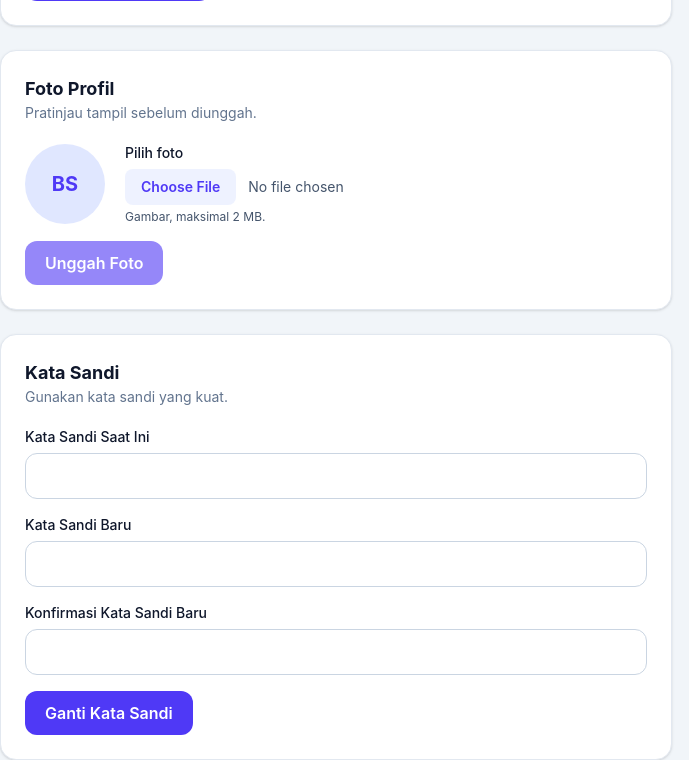
Test: ProfilePage › form kata sandi › menolak jika konfirmasi tidak sama
(page scrolled)
Type "lama123" into the password field labelled "Kata Sandi Saat Ini" at (336, 476), box top-left (25, 453), bottom-right (647, 499)
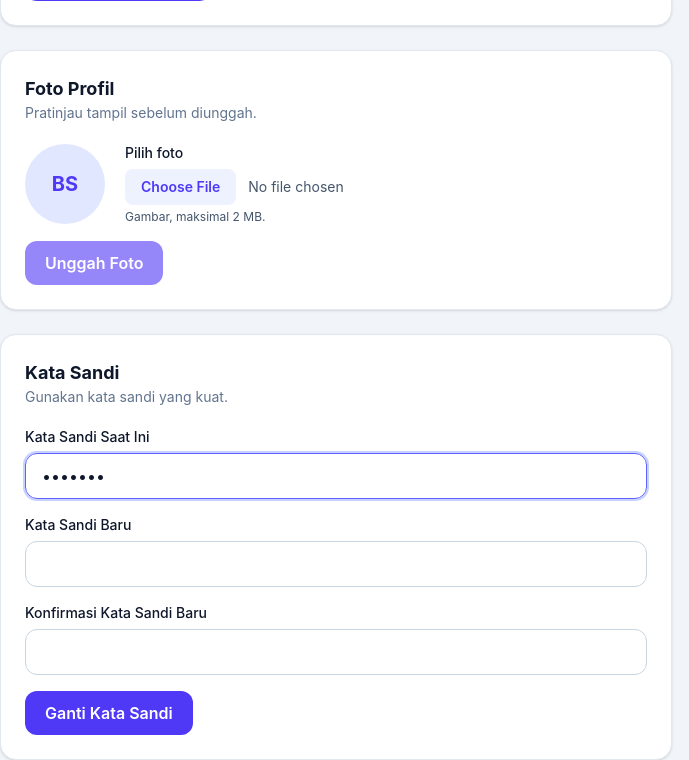
Type "baru1234" into the password field labelled "Kata Sandi Baru" at (336, 564), box top-left (25, 541), bottom-right (647, 587)
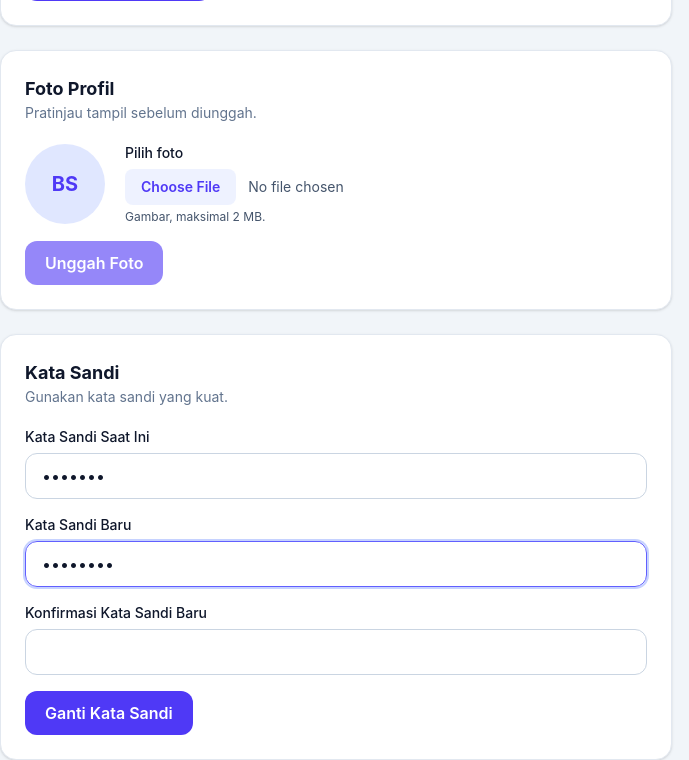
Type "beda1234" into the password field labelled "Konfirmasi Kata Sandi Baru" at (336, 652), box top-left (25, 629), bottom-right (647, 675)
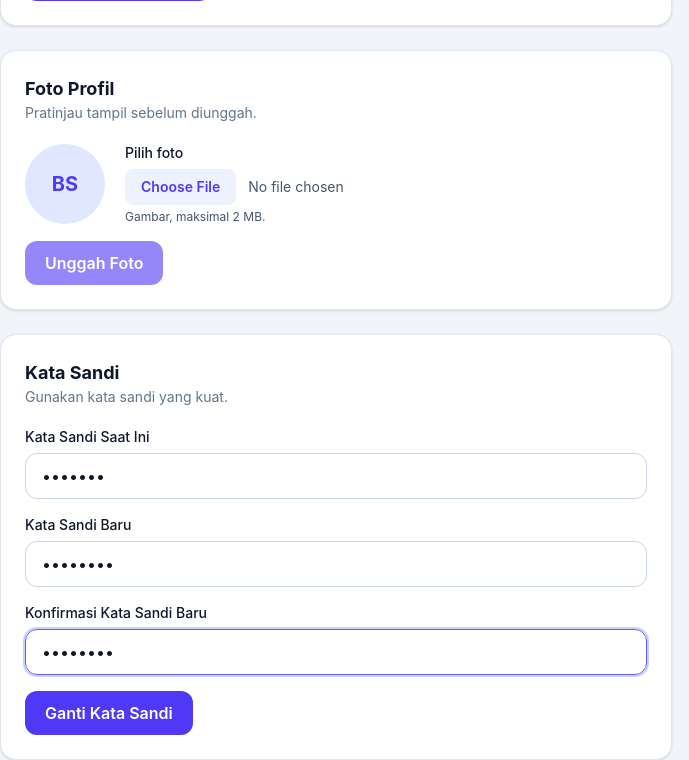
Click the button "Ganti Kata Sandi" at (109, 713), box top-left (25, 691), bottom-right (193, 735)
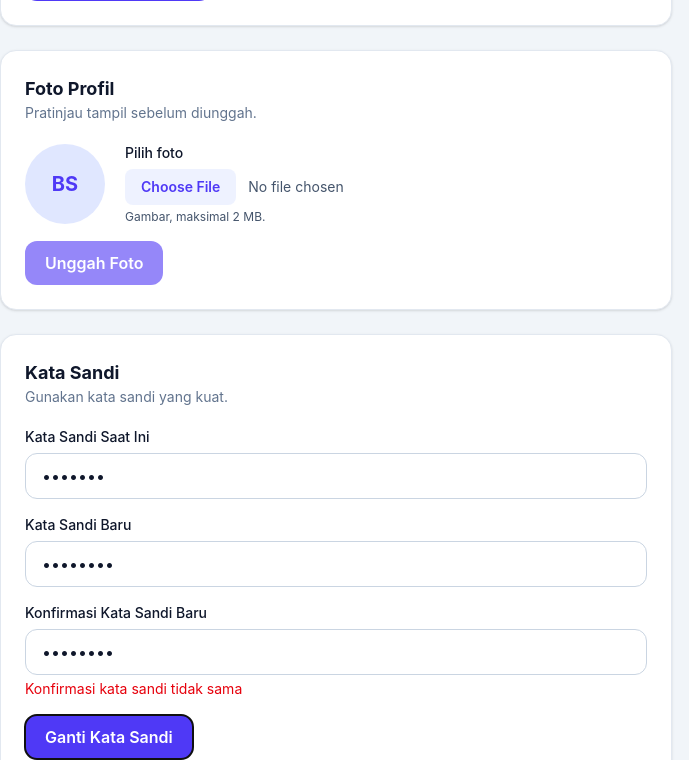
Result: the text "Konfirmasi kata sandi tidak sama" is shown at top-left (25, 680), bottom-right (242, 697)
